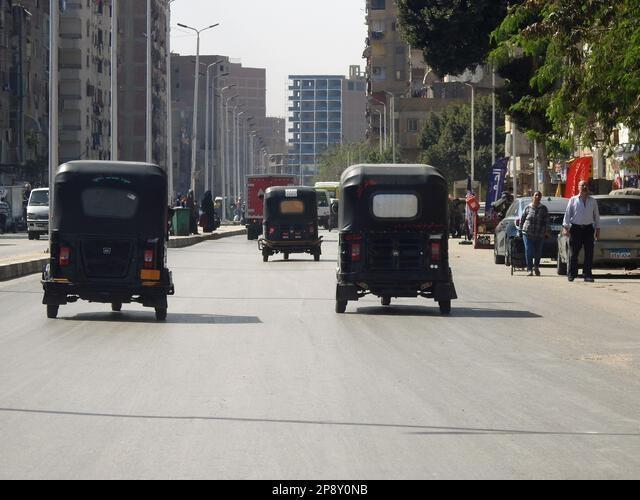keke: (48, 158, 175, 329), (334, 161, 454, 320), (257, 180, 324, 267), (589, 182, 640, 284)
